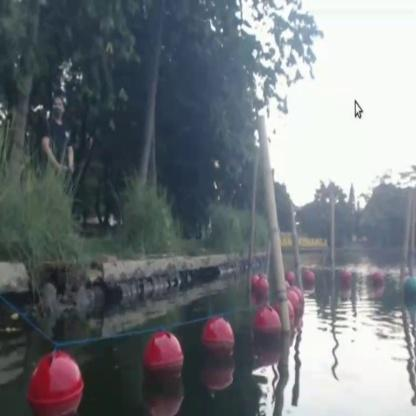green_buoy: (402, 277, 415, 307)
red_buoy: (29, 350, 84, 415), (144, 334, 182, 390), (203, 318, 234, 368), (254, 305, 282, 349), (250, 274, 270, 300), (370, 268, 384, 290), (292, 290, 303, 316), (304, 268, 314, 294), (290, 298, 296, 332)
